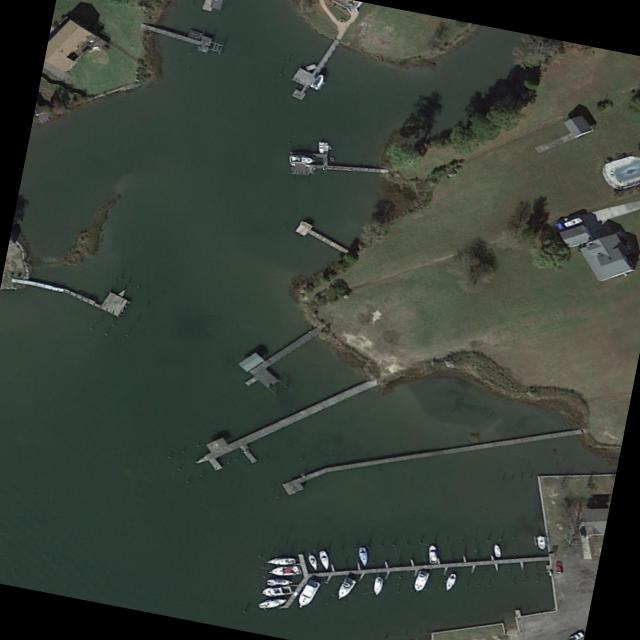ship: (292, 579, 322, 613), (334, 576, 359, 602), (410, 569, 434, 595), (256, 596, 290, 611), (266, 564, 304, 577), (260, 584, 294, 598), (309, 72, 331, 93), (441, 571, 459, 595), (264, 554, 299, 566), (369, 576, 386, 599), (288, 152, 318, 165), (316, 551, 333, 573), (356, 547, 372, 567), (425, 545, 440, 564), (265, 577, 293, 587), (490, 543, 505, 559), (563, 216, 583, 228), (307, 553, 319, 572), (535, 536, 547, 550), (317, 141, 326, 153)
small-vehicle: (568, 631, 585, 640), (557, 561, 564, 575), (580, 528, 587, 539)
